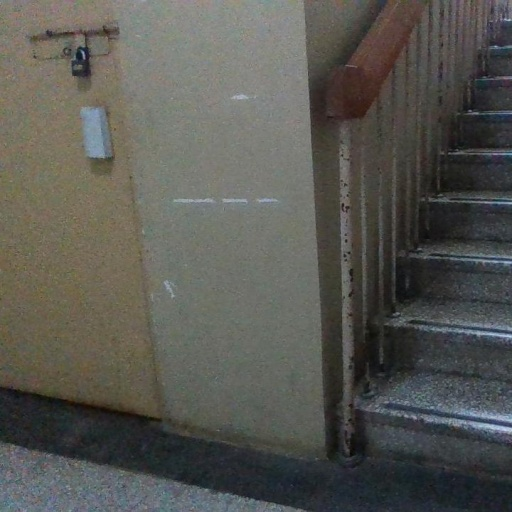Stairs: (357, 20, 512, 474)
